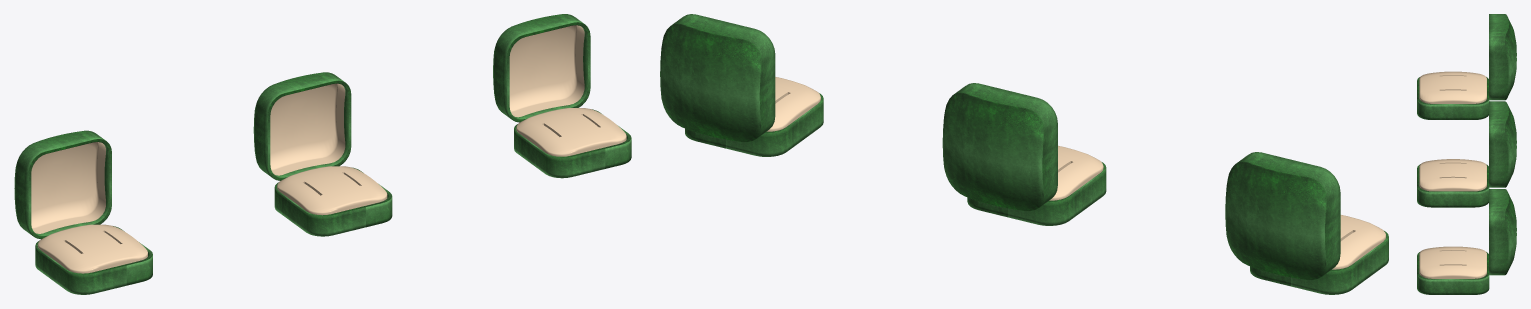
Rendered from Velvet box.obj.
3 renders of one model, left to right at view 1: azimuth 30°, elevation 25°; view 2: azimuth 150°, elevation 25°; view 3: azimuth 270°, elevation 25°, orthographic. The views are drawn at different scales.
Parts seen in each view (by area): view 1: Bbox_cap, Rbox_cap, Gbox_cap, Gbox_interior, Bbox_interior, Rbox_interior, Bbox_base, Gbox_base, Rbox_base; view 2: Rbox_cap, Gbox_cap, Bbox_cap, Bbox_base, Gbox_base, Rbox_base, Gbox_interior, Rbox_interior, Bbox_interior; view 3: Bbox_cap, Gbox_cap, Rbox_cap, Bbox_interior, Rbox_interior, Gbox_interior, Bbox_base, Rbox_base, Gbox_base.
Boxes of the visible parts, box(x1,y1,x2,y2) form: Bbox_cap: box(253, 72, 351, 180); Rbox_cap: box(493, 14, 590, 122); Gbox_cap: box(14, 130, 111, 239); Gbox_interior: box(37, 224, 147, 273); Bbox_interior: box(277, 166, 387, 215); Rbox_interior: box(516, 108, 626, 156); Bbox_base: box(274, 167, 392, 236); Gbox_base: box(35, 226, 152, 294); Rbox_base: box(514, 109, 631, 178); Rbox_cap: box(660, 14, 775, 142); Gbox_cap: box(1225, 152, 1340, 279); Bbox_cap: box(942, 83, 1057, 210); Bbox_base: box(967, 162, 1106, 225); Gbox_base: box(1250, 231, 1388, 294); Rbox_base: box(685, 93, 823, 156); Gbox_interior: box(1332, 215, 1385, 269); Rbox_interior: box(767, 77, 820, 131); Bbox_interior: box(1049, 145, 1103, 200); Bbox_cap: box(1489, 101, 1516, 187); Gbox_cap: box(1489, 14, 1516, 100); Rbox_cap: box(1489, 189, 1516, 275); Bbox_interior: box(1419, 159, 1486, 191); Rbox_interior: box(1419, 246, 1486, 278); Gbox_interior: box(1419, 71, 1486, 103); Bbox_base: box(1417, 164, 1489, 207); Rbox_base: box(1417, 252, 1489, 294); Gbox_base: box(1417, 77, 1489, 119).
Size of the model in its own units: 23.7 by 4.32 by 4.86.
2 materials, 1 textured.
